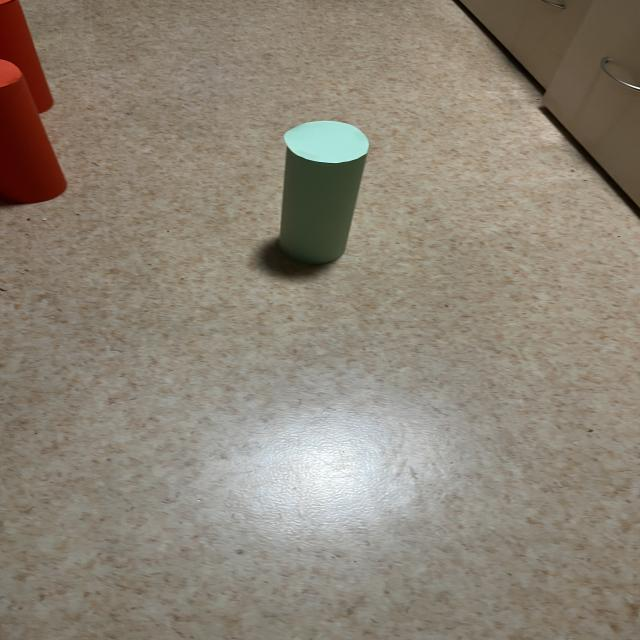meta: (279, 121, 369, 264)
